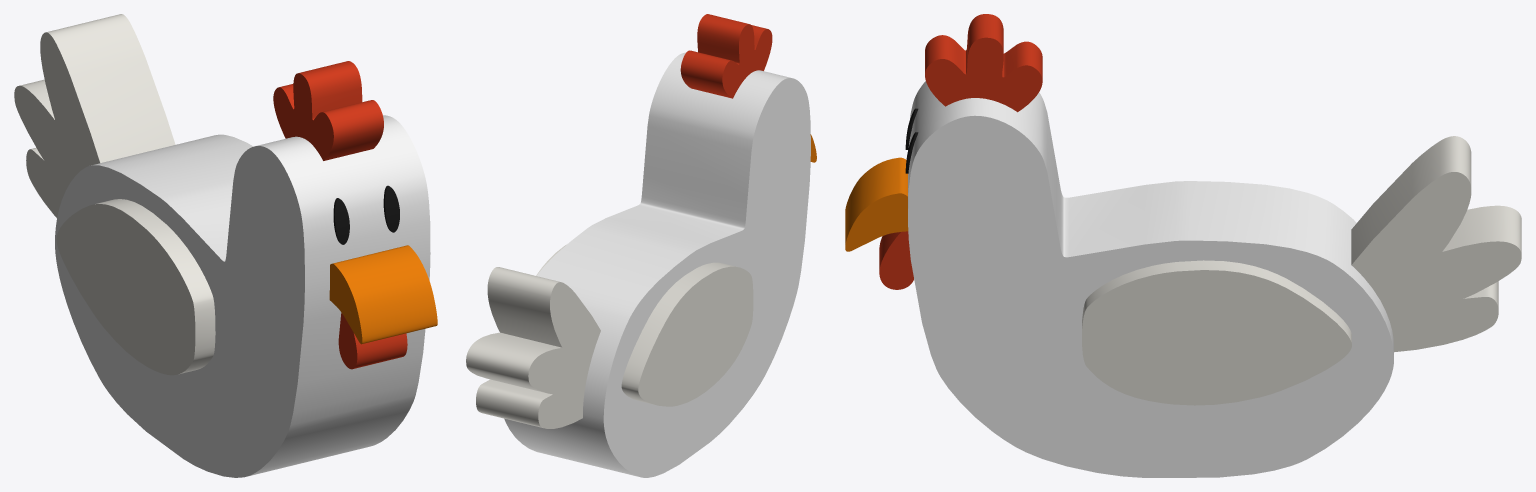
File: chicken_cartoony_full.fbx
3 views of the same model, side by side, from view 1: azimuth 30°, elevation 25°; view 2: azimuth 150°, elevation 25°; view 3: azimuth 270°, elevation 25° (orthographic). The views are drawn at different scales.
Visible parts, largest first — view 1: Body, Tail, WingR, Beak, Comb, Crop, EyeR, EyeL; view 2: Body, Tail, WingR, Comb; view 3: Body, WingL, Tail, Comb, Beak, Crop.
Boxes of the visible parts, box(x1,y1,x2,y2) form: Body: box(55, 115, 430, 477); Tail: box(14, 14, 175, 217); WingR: box(56, 199, 215, 375); Beak: box(329, 245, 437, 344); Comb: box(273, 61, 383, 160); Crop: box(338, 313, 407, 369); EyeR: box(333, 198, 349, 244); EyeL: box(383, 185, 399, 232); Body: box(504, 52, 810, 477); Tail: box(466, 267, 600, 428); WingR: box(621, 262, 753, 406); Comb: box(680, 14, 772, 98); Body: box(908, 81, 1393, 477); WingL: box(1082, 260, 1351, 405); Tail: box(1351, 136, 1521, 352); Comb: box(925, 14, 1042, 112); Beak: box(845, 157, 908, 251); Crop: box(879, 231, 913, 289).
Bounding box in the file's own units: 11.59 × 29.05 × 42.17.
